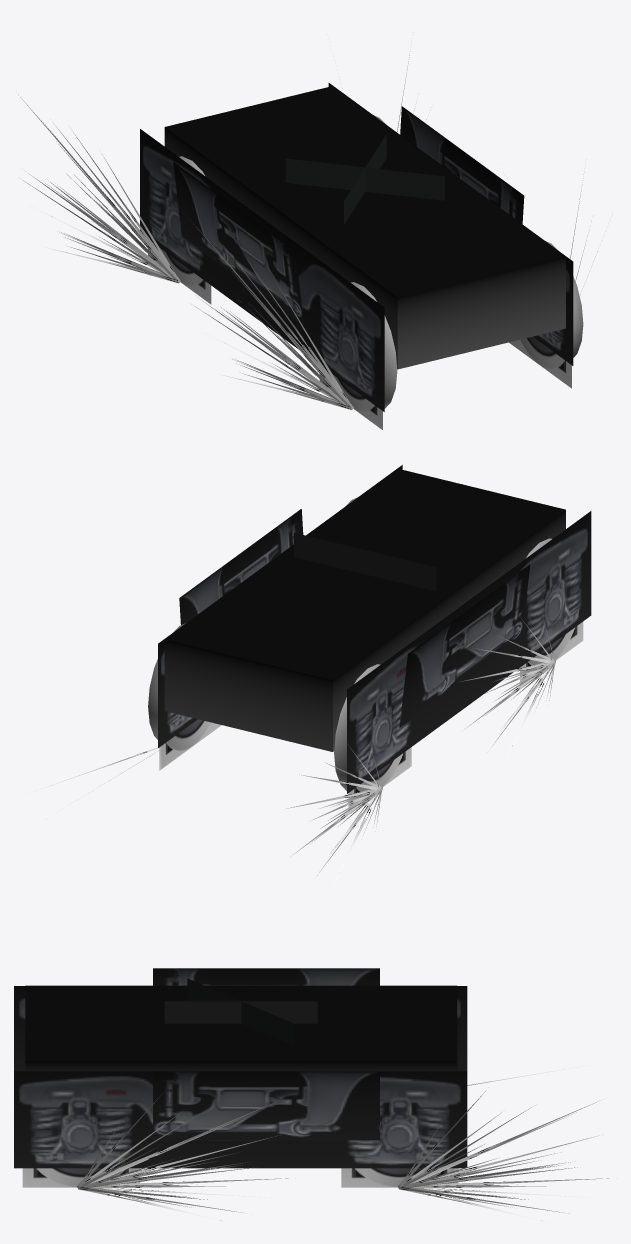
The model's file is KQ2100_TRACK_LOWD4.glb.
3 views of the same model, one above another, from view 1: azimuth 30°, elevation 25°; view 2: azimuth 150°, elevation 25°; view 3: azimuth 270°, elevation 25° (orthographic). The views are drawn at different scales.
Visible parts, largest first — view 1: obj1, FR0, FR1; view 2: obj1, FR0, FR1; view 3: obj1, FL1, FL0.
Boxes of the visible parts, bbox=[...] form: obj1: bbox=[140, 83, 583, 429]; FR0: bbox=[194, 224, 353, 410]; FR1: bbox=[18, 94, 180, 283]; obj1: bbox=[148, 465, 591, 809]; FR0: bbox=[458, 618, 555, 760]; FR1: bbox=[285, 744, 382, 888]; obj1: bbox=[14, 968, 467, 1187]; FL1: bbox=[398, 1091, 609, 1227]; FL0: bbox=[77, 1089, 288, 1227].
Size of the model in its own units: 6.84 by 3.05 by 10.25.
Materials: 27 (26 with a texture image).
